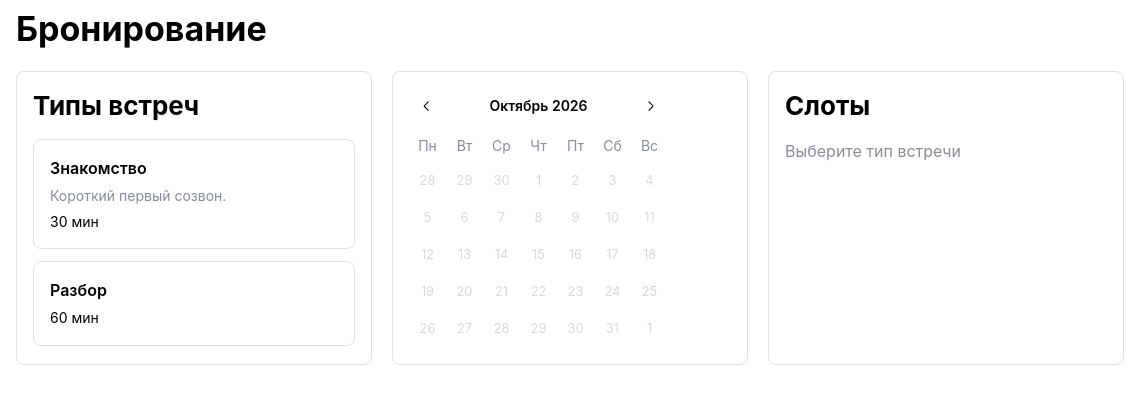
it: booking page › replaces the form with a confirmation after a successful booking
Step 1. Click the button "Знакомство Короткий первый созвон. 30 мин" → (194, 194), box [33,139,355,250]
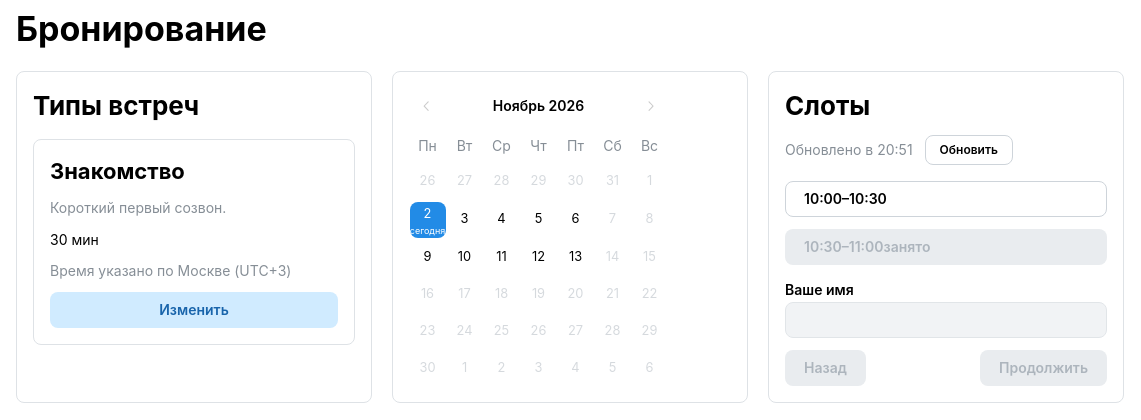
Step 2. Click the button "10:00–10:30" → (845, 199), box [785,181,1107,217]
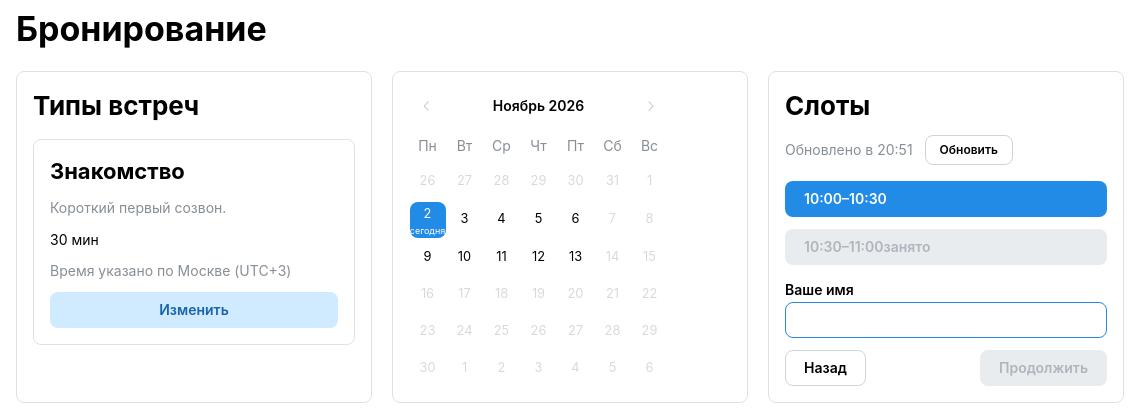
Step 3. Type "  Анна  " into the field labelled "Ваше имя" → (946, 320), box [785,302,1107,338]
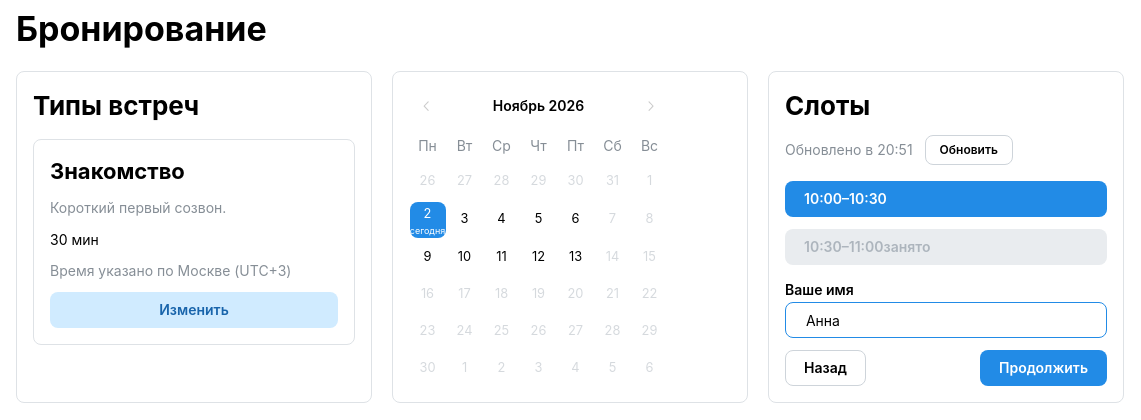
Step 4. Click the button "Продолжить" → (1044, 368), box [980,350,1107,386]
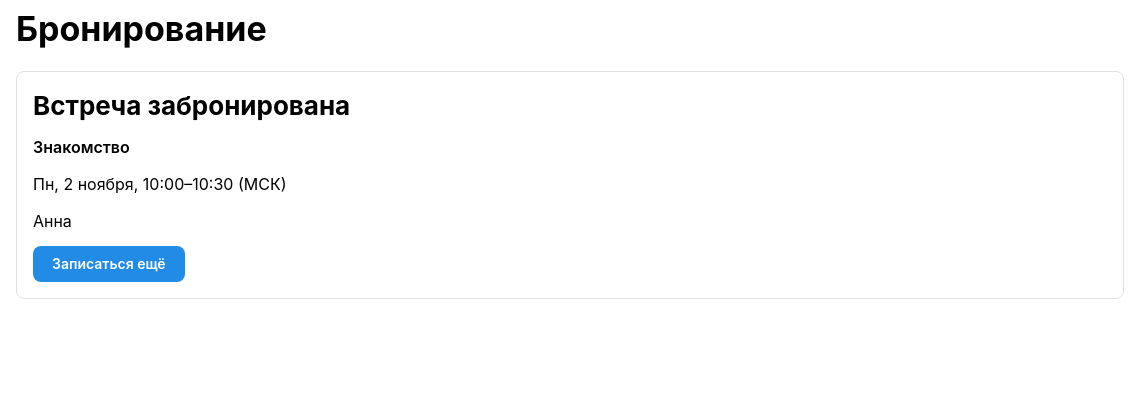
expect the heading "Встреча забронирована" is shown: met, box [33,88,350,123]
expect the text "Пн, 2 ноября, 10:00–10:30 (МСК)" is shown: met, box [33,172,286,197]
expect the text "Анна" is shown: met, box [33,209,72,234]
